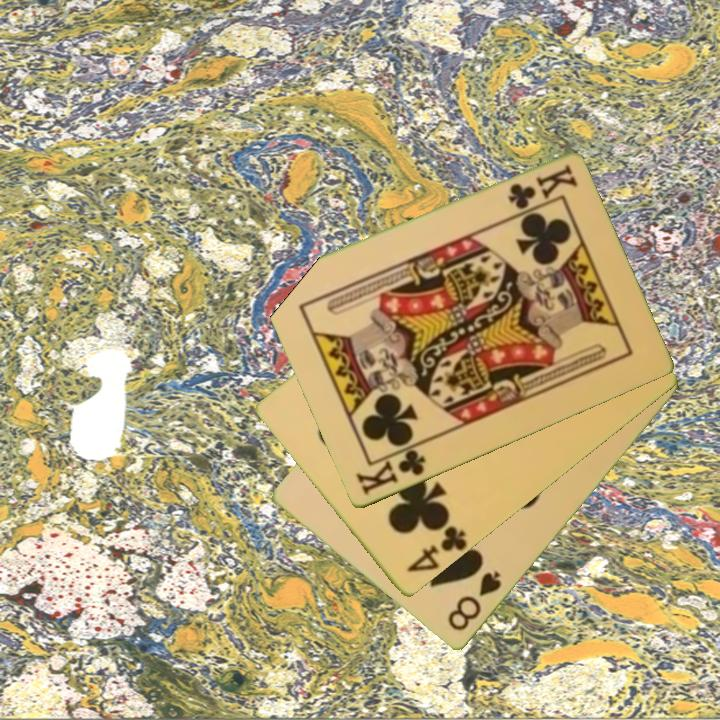4c: (402, 522, 470, 576)
8s: (444, 568, 505, 635)
Kc: (351, 440, 429, 499), (504, 161, 580, 212)
